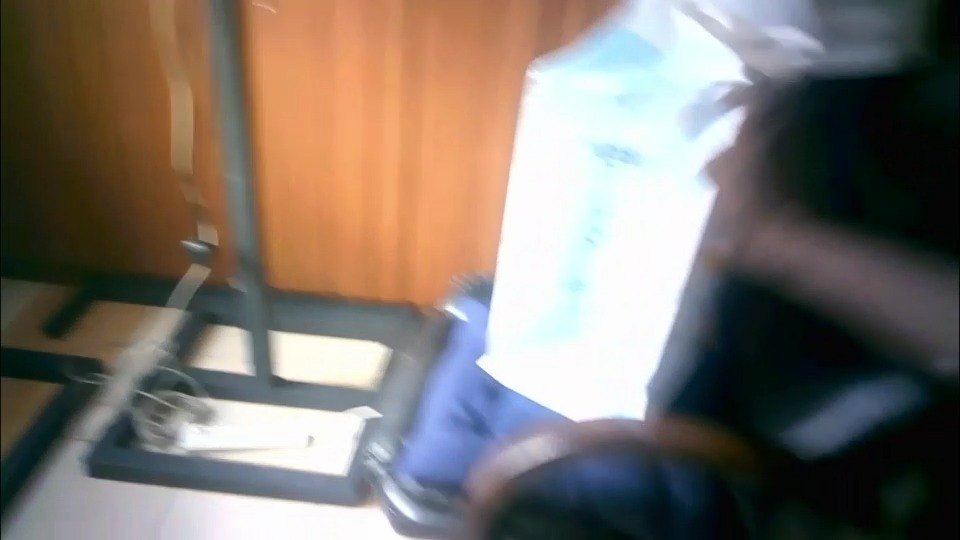wheat_flour_blue_label: (488, 41, 707, 412)
